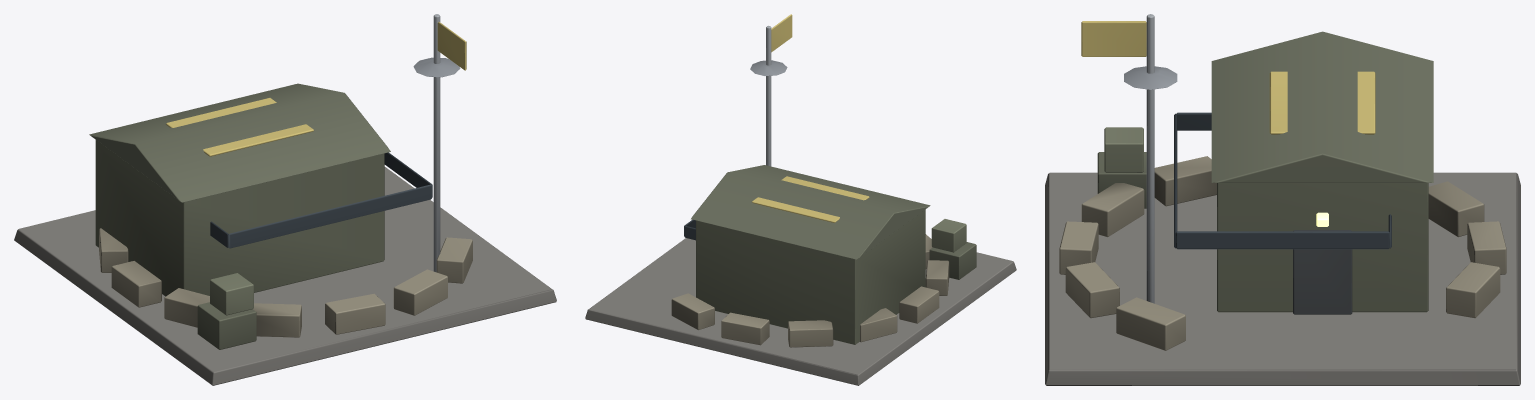
Rendered from forward_post.glb.
The picture shows the model from 3 angles, left to right: view 1: azimuth 30°, elevation 25°; view 2: azimuth 150°, elevation 25°; view 3: azimuth 270°, elevation 25°; orthographic projection. The views are drawn at different scales.
Visible parts, largest first — view 1: Body; view 2: Body; view 3: Body.
Part boxes in pixels (x1,y1,x2,y2): Body: (14, 14, 556, 385); Body: (585, 14, 1016, 385); Body: (1045, 14, 1520, 385).
Bounding box in the file's own units: 7.19 × 5.45 × 7.19.
